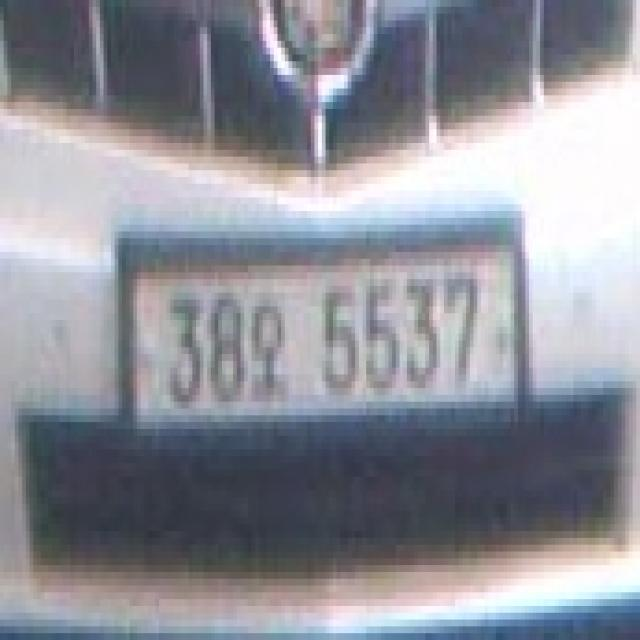3: (403, 272, 440, 388), (167, 299, 207, 402)
5: (322, 279, 362, 395), (363, 272, 403, 388)
7: (444, 266, 481, 381)
8: (204, 293, 244, 395)
license_plate: (122, 245, 522, 422)
o: (248, 299, 288, 402)
